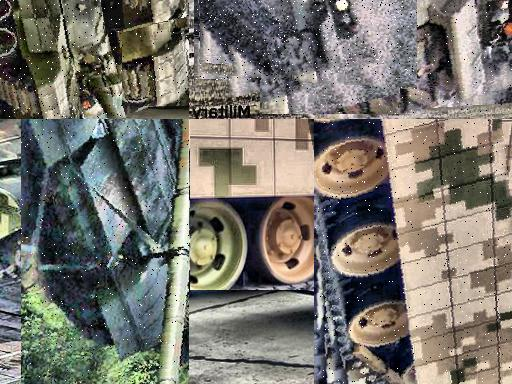tanks: (316, 120, 512, 384), (25, 120, 190, 384), (280, 1, 512, 115), (1, 1, 122, 120), (214, 1, 357, 81), (94, 1, 190, 106)
